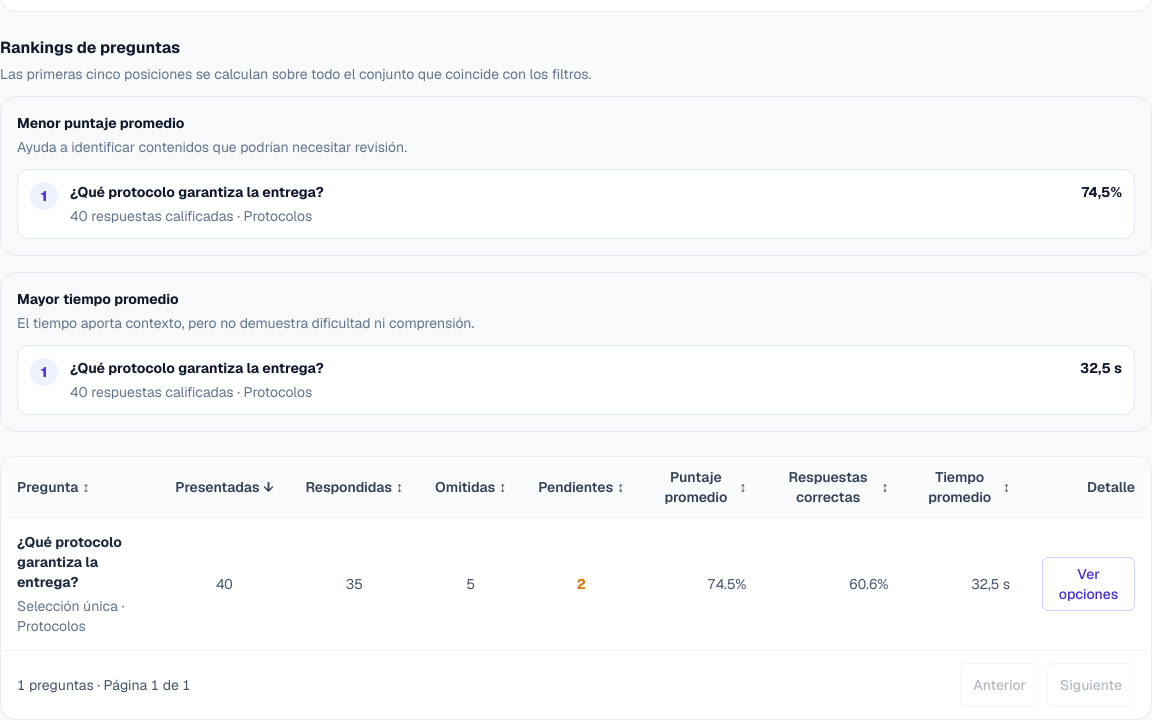
reportes docentes › distingue una variante pendiente de una calificada con cero puntos
This screenshot has width=1152, height=720.
(page scrolled)
Click the button "Ver opciones" at (1088, 584), box [1042,556,1135,610]
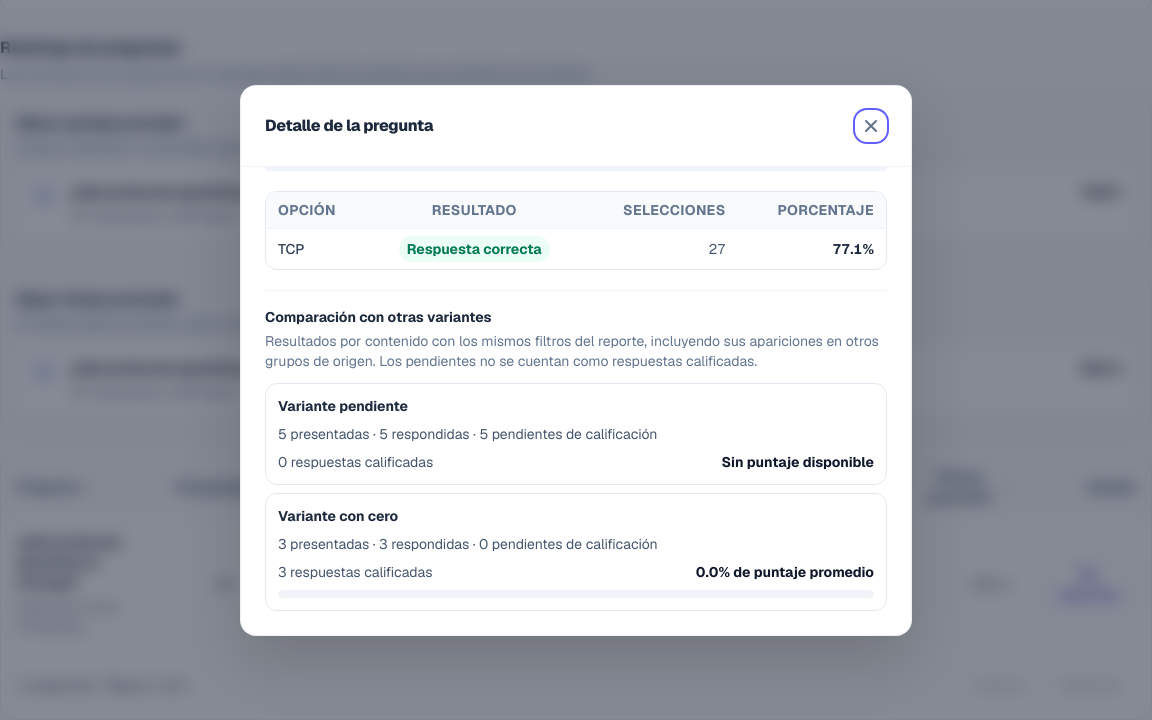
Now the text "Sin puntaje disponible" is shown, box [722,452,874,472]
Now the text "0.0% de puntaje promedio" is shown, box [696,562,874,582]
Now the text "5 presentadas · 5 respondidas · 5 pendientes de calificación" is shown, box [278,424,658,442]
